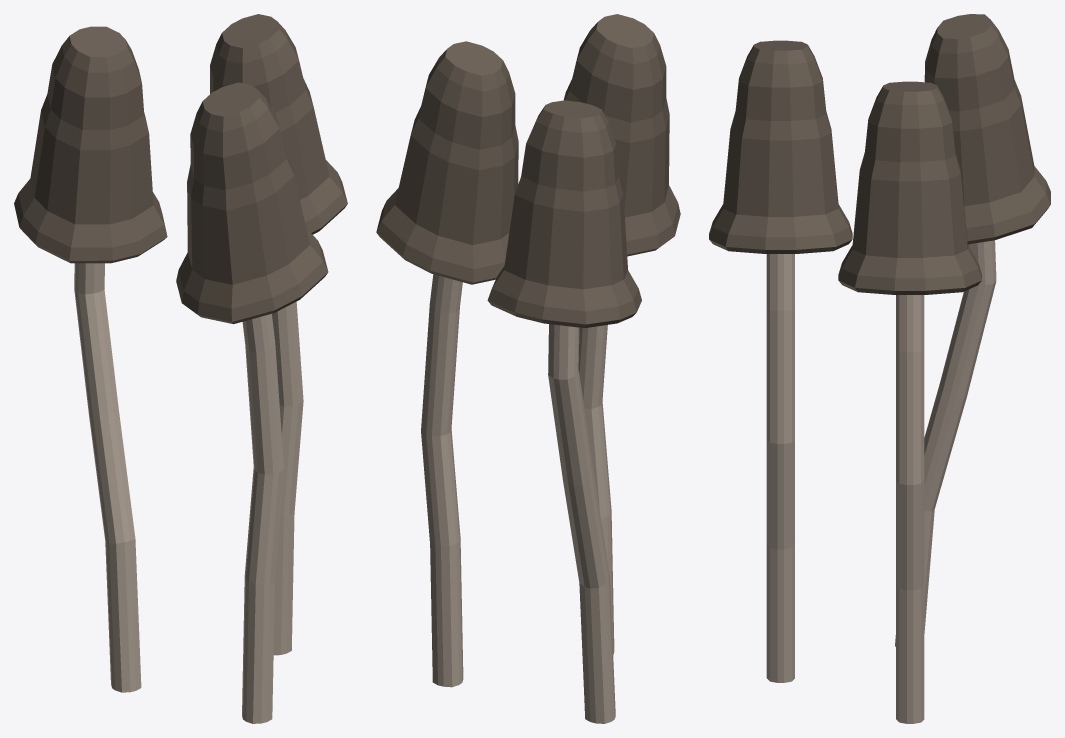
File: Mushroom4.4.fbx
The picture shows the model from 3 angles, left to right: view 1: azimuth 30°, elevation 25°; view 2: azimuth 150°, elevation 25°; view 3: azimuth 270°, elevation 25°; orthographic projection.
Parts seen in each view (by area): view 1: Mushroom4.4; view 2: Mushroom4.4; view 3: Mushroom4.4.
Part boxes in pixels (x1,y1,x2,y2): Mushroom4.4: (14,14,347,723); Mushroom4.4: (376,14,680,723); Mushroom4.4: (709,14,1050,723).
Size of the model in its own units: 103 by 228 by 113.
